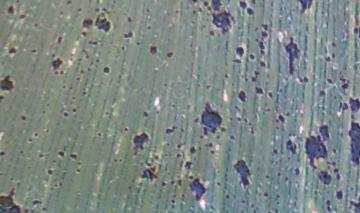tarspot: (202, 1, 237, 34), (300, 133, 329, 171), (200, 101, 227, 139), (283, 35, 302, 75), (346, 120, 360, 166), (255, 22, 269, 67), (1, 185, 23, 213), (232, 158, 251, 189), (188, 176, 207, 201), (131, 132, 150, 156), (94, 11, 112, 34), (1, 75, 17, 93), (317, 123, 332, 142), (295, 1, 313, 16), (346, 195, 360, 213), (316, 169, 331, 185), (284, 139, 298, 156), (337, 75, 351, 92), (141, 168, 158, 182), (347, 96, 360, 114), (80, 16, 94, 31), (163, 125, 179, 137), (50, 57, 63, 70), (234, 44, 245, 59), (236, 88, 246, 104), (337, 101, 349, 114), (250, 68, 259, 85), (324, 197, 333, 213), (244, 6, 256, 18), (296, 75, 309, 86), (335, 188, 345, 202), (30, 196, 44, 206), (6, 4, 17, 16), (183, 160, 194, 172), (122, 30, 135, 40), (332, 167, 341, 181), (253, 85, 264, 96), (248, 202, 259, 213), (165, 49, 175, 61), (352, 24, 360, 39), (80, 47, 90, 59), (7, 46, 18, 56), (55, 35, 65, 46), (175, 140, 186, 150), (101, 65, 110, 77), (148, 43, 157, 55), (230, 57, 242, 66), (68, 152, 78, 162), (100, 4, 110, 14), (325, 76, 334, 87), (143, 156, 152, 167), (266, 90, 274, 101), (247, 52, 256, 61), (238, 1, 247, 10), (56, 150, 66, 158), (141, 109, 149, 119), (87, 39, 97, 47), (176, 177, 183, 188), (242, 71, 249, 82), (62, 110, 70, 119), (188, 145, 196, 154), (79, 30, 88, 38), (18, 12, 27, 20), (317, 89, 326, 97), (204, 82, 212, 91), (204, 141, 214, 148), (277, 114, 284, 124), (81, 85, 88, 95), (125, 15, 133, 23), (227, 134, 236, 141), (262, 190, 269, 199), (271, 147, 278, 156), (249, 124, 254, 136), (96, 130, 103, 138), (133, 40, 141, 47), (70, 106, 78, 113), (207, 29, 215, 36), (192, 116, 199, 124), (323, 55, 331, 62), (93, 5, 100, 13), (293, 167, 300, 175), (174, 152, 182, 159), (187, 173, 194, 181), (111, 156, 118, 164), (331, 146, 337, 155), (117, 155, 123, 164), (122, 126, 129, 133), (330, 41, 337, 48), (263, 173, 270, 180), (224, 193, 231, 200), (46, 168, 53, 175), (169, 102, 176, 109), (88, 59, 95, 66), (119, 43, 125, 51), (75, 7, 83, 13), (276, 170, 282, 178), (169, 198, 177, 204), (235, 115, 241, 123), (70, 94, 76, 102), (67, 84, 75, 90), (240, 197, 246, 205), (330, 51, 335, 60), (20, 114, 27, 120), (30, 48, 37, 54), (1, 150, 8, 156), (330, 160, 337, 166), (145, 24, 152, 30), (144, 5, 150, 12), (33, 21, 39, 28), (58, 69, 64, 76), (283, 175, 289, 182), (75, 167, 81, 174), (215, 180, 221, 187), (160, 181, 167, 187), (33, 131, 39, 138), (26, 137, 33, 143), (38, 152, 44, 159), (75, 75, 81, 82), (191, 8, 197, 15), (152, 154, 159, 160), (58, 9, 64, 16), (273, 207, 280, 213), (274, 193, 281, 199), (94, 1, 102, 6), (65, 1, 73, 6), (85, 66, 93, 71), (197, 5, 202, 13), (242, 116, 247, 124), (170, 179, 176, 185), (1, 94, 5, 103), (223, 73, 229, 79), (104, 110, 110, 116), (18, 149, 24, 155), (52, 70, 59, 75), (79, 67, 84, 74), (174, 8, 179, 15), (313, 188, 318, 195), (248, 1, 256, 5), (209, 149, 215, 154), (215, 135, 221, 140), (94, 58, 99, 64), (275, 199, 280, 205), (238, 208, 243, 213), (111, 1, 117, 5), (191, 1, 198, 4), (228, 116, 233, 120), (265, 210, 271, 213)
